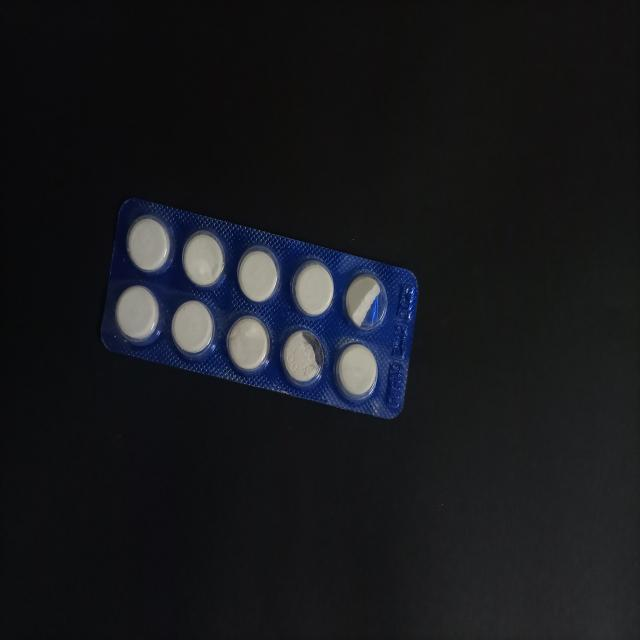defect: (278, 326, 327, 392), (341, 270, 390, 334)
